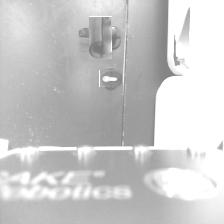Door Handle: (84, 21, 117, 55)
Lock: (101, 68, 121, 89)
